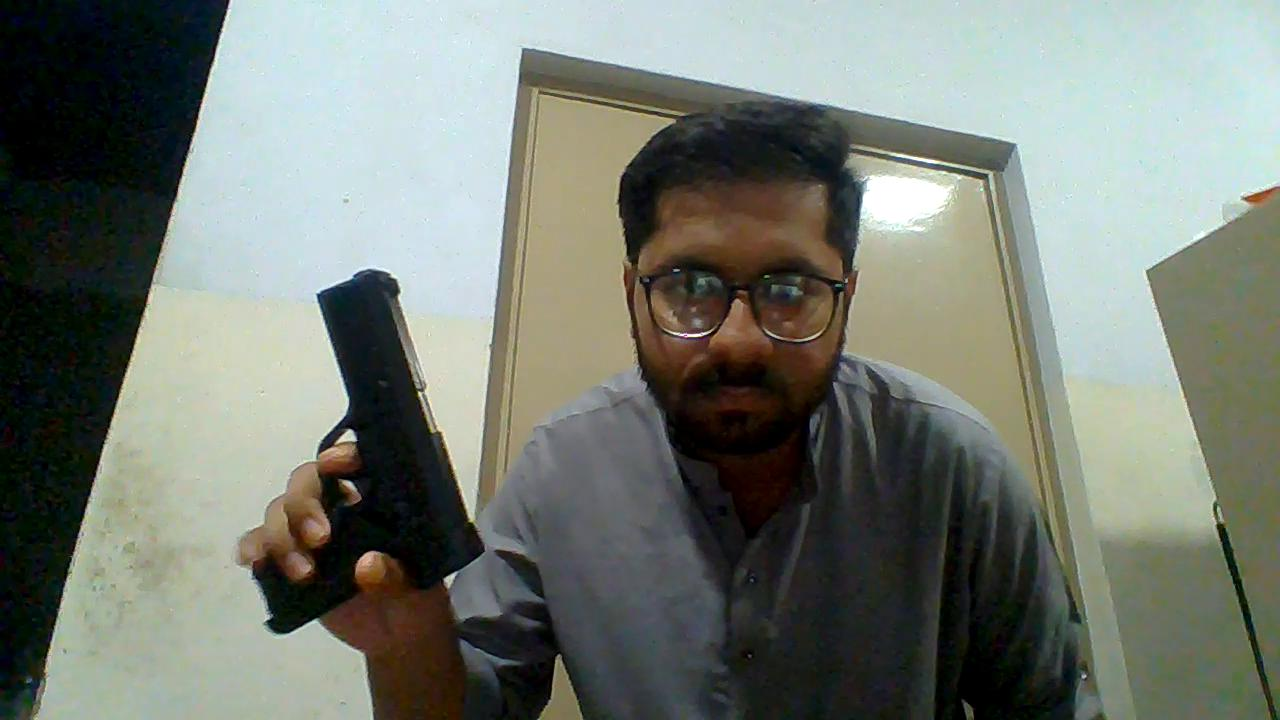criminal: (235, 96, 1087, 720)
weapon: (250, 269, 484, 636)
